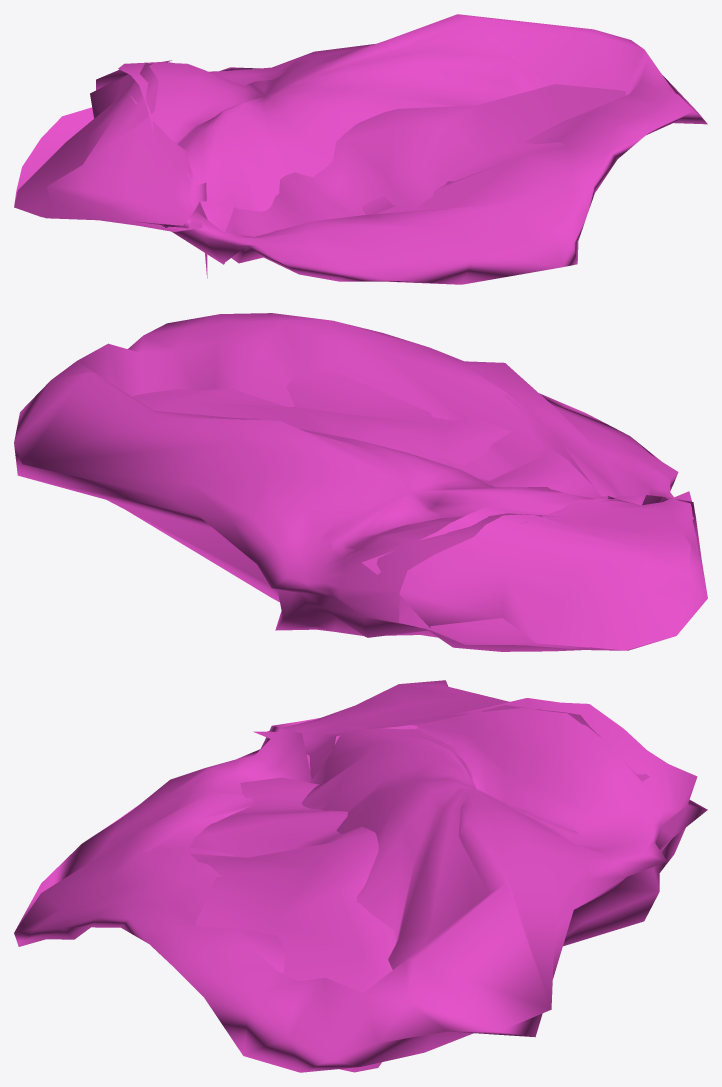
The model's file is WWW 1.fbx.
The picture shows the model from 3 angles, top to bottom: view 1: azimuth 30°, elevation 25°; view 2: azimuth 150°, elevation 25°; view 3: azimuth 270°, elevation 25°; orthographic projection. The views are drawn at different scales.
Visible parts, largest first — view 1: Sphere; view 2: Sphere; view 3: Sphere.
Part boxes in pixels (x1,y1,x2,y2): Sphere: (14,14,707,284); Sphere: (14,313,707,651); Sphere: (14,680,707,1072).
Bounding box in the file's own units: 424 × 92.14 × 339.
